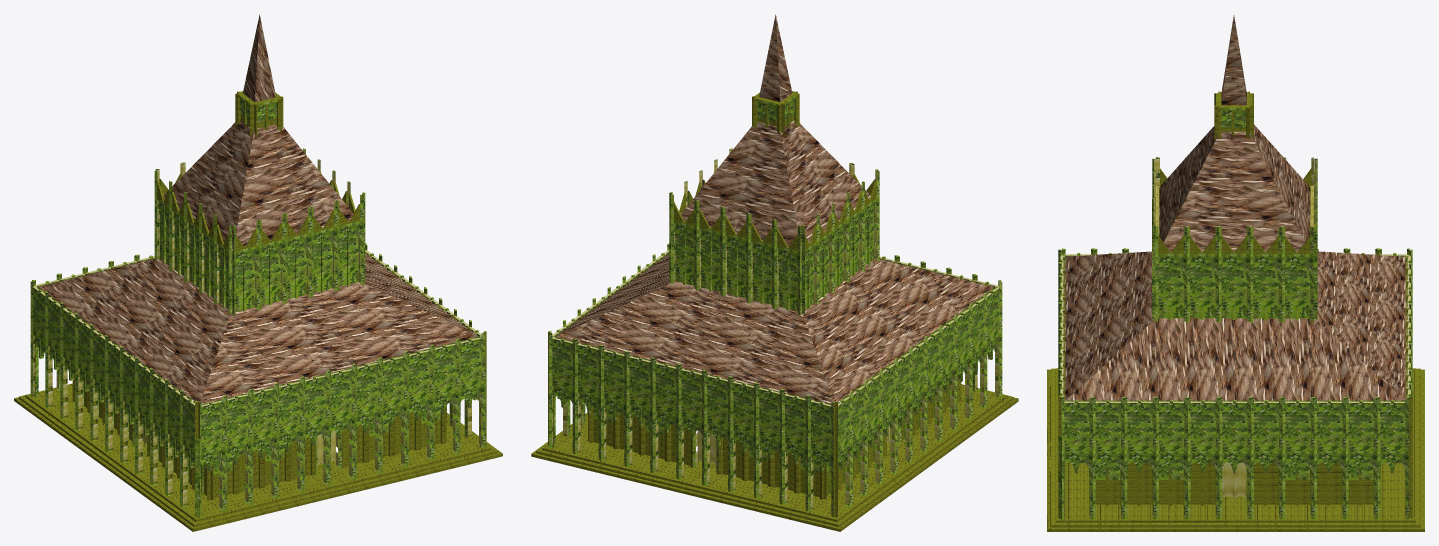
File: Zwoelfgoettliches_Konzil.dae
3 renders of one model, left to right at view 1: azimuth 30°, elevation 25°; view 2: azimuth 150°, elevation 25°; view 3: azimuth 270°, elevation 25°, orthographic. The views are drawn at different scales.
Visible parts, largest first — view 1: Group4, Group8, Group5, Component_7_3 (×2), Component_7_2 (×2), Component_7_1 (×2), Component_7_5 (×2), Component_7_4 (×2), Component_1_44, Component_1_26, Component_1_38, Component_1_4 (+29 smaller); view 2: Group4, Group8, Group5, Component_7_2 (×2), Component_7_3 (×2), Component_7_1 (×2), Component_7_5 (×2), Component_7_4 (×2), Component_1_1, Component_1_17, Component_1_18, Component_1_7 (+30 smaller); view 3: Group4, Group8, Group5, Component_7_2 (×2), Component_7_3 (×2), Component_1_28, Component_1_35, Component_1_37, Component_1_32, Component_7_4, Component_7_5, Component_1_34 (+19 smaller).
Boxes of the visible parts, x1,y1,x2,y2 form: Group4: (38,242,478,404); Group8: (14,371,502,531); Group5: (163,120,353,248); Component_7_3 (×2): (214,194,363,314); Component_7_2 (×2): (154,170,259,315); Component_7_1 (×2): (169,181,285,309); Component_7_5 (×2): (184,192,311,303); Component_7_4 (×2): (199,200,337,303); Component_1_44: (250,383,277,504); Component_1_26: (198,395,225,517); Component_1_38: (432,338,459,460); Component_1_4: (380,351,407,472); Group4: (555,243,994,403); Group8: (531,371,1018,531); Group5: (681,120,870,248); Component_7_2 (×2): (671,194,819,314); Component_7_3 (×2): (774,171,879,315); Component_7_1 (×2): (696,200,834,298); Component_7_5 (×2): (722,193,849,302); Component_7_4 (×2): (748,182,864,309); Component_1_1: (808,395,835,517); Component_1_17: (626,351,655,472); Component_1_18: (652,357,681,479); Component_1_7: (704,370,733,491); Group4: (1065,251,1405,400); Group8: (1047,368,1424,531); Group5: (1159,124,1310,251); Component_7_2 (×2): (1155,212,1317,321); Component_7_3 (×2): (1152,212,1313,322); Component_1_28: (1282,397,1314,519); Component_1_35: (1219,397,1251,519); Component_1_37: (1124,397,1156,519); Component_1_32: (1377,397,1409,519); Component_7_4: (1250,226,1282,322); Component_7_5: (1219,225,1250,322); Component_1_34: (1188,396,1219,519).
Size of the model in its own units: 23.9 by 23.9 by 30.6.
